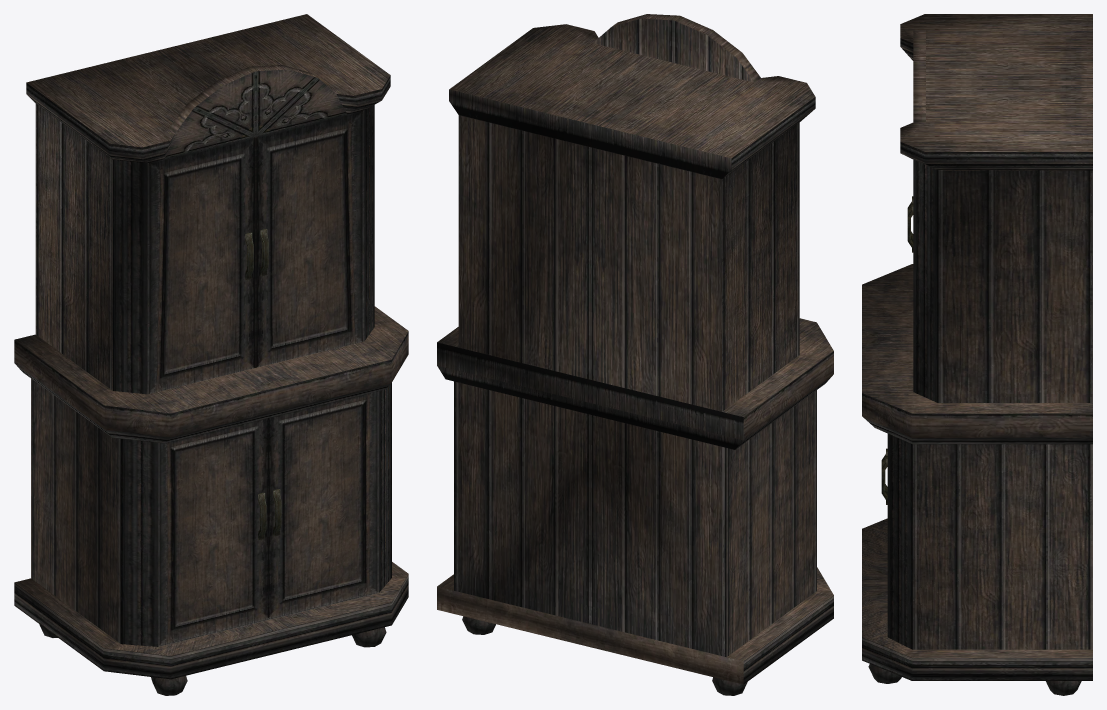
Rendered from GS_CITY_CUPBOARD_BLACK_01_KOZA.glb.
3 renders of one model, left to right at view 1: azimuth 30°, elevation 25°; view 2: azimuth 150°, elevation 25°; view 3: azimuth 270°, elevation 25°, orthographic.
Parts seen in each view (by area): view 1: Mesh; view 2: Mesh; view 3: Mesh.
Boxes of the visible parts, x1,y1,x2,y2 form: Mesh: (14, 14, 408, 695); Mesh: (437, 14, 833, 695); Mesh: (862, 14, 1092, 695).
Bounding box in the file's own units: 1.38 × 2.53 × 0.9.
Materials: 4 (4 with a texture image).
